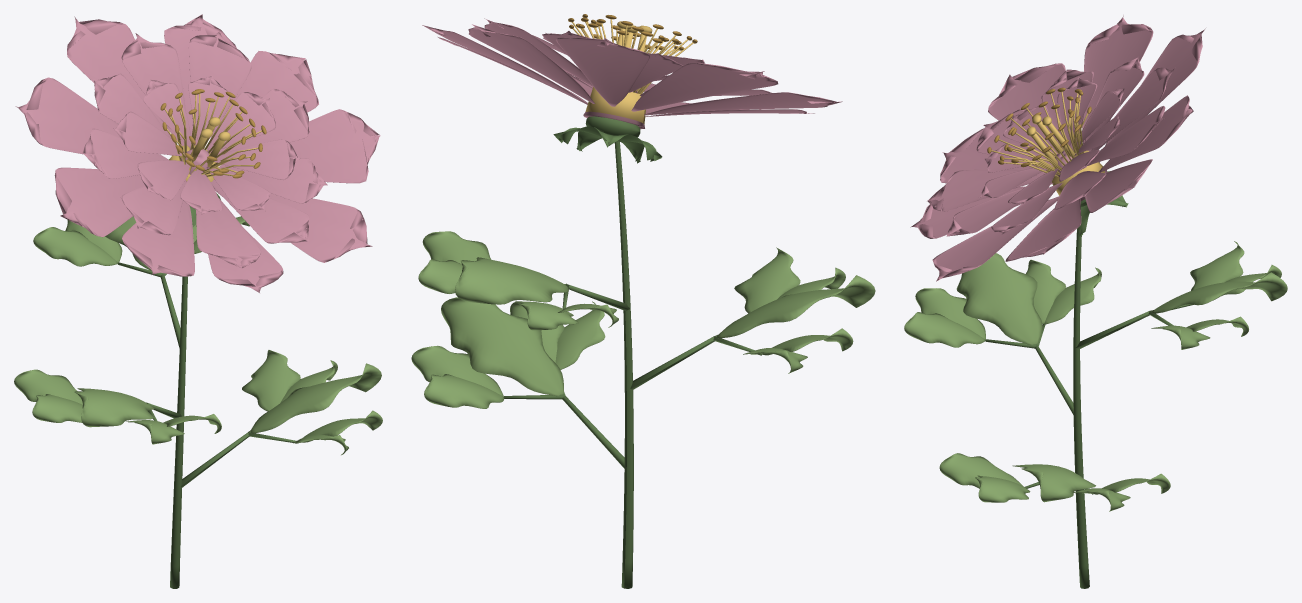
Rendered from peony-fine-v2.glb.
3 renders of one model, left to right at view 1: azimuth 30°, elevation 25°; view 2: azimuth 150°, elevation 25°; view 3: azimuth 270°, elevation 25°, orthographic. The views are drawn at different scales.
Parts seen in each view (by area): view 1: peony-fine-v2-petal, peony-fine-v2-leaf, peony-fine-v2-stem, peony-fine-v2-center, peony-fine-v2-pollen; view 2: peony-fine-v2-leaf, peony-fine-v2-petal, peony-fine-v2-stem, peony-fine-v2-center, peony-fine-v2-pollen; view 3: peony-fine-v2-petal, peony-fine-v2-leaf, peony-fine-v2-stem, peony-fine-v2-center, peony-fine-v2-pollen.
Boxes of the visible parts, <box> form: peony-fine-v2-petal: <box>15,14,380,292</box>; peony-fine-v2-leaf: <box>14,216,382,455</box>; peony-fine-v2-stem: <box>118,193,296,588</box>; peony-fine-v2-center: <box>164,93,261,181</box>; peony-fine-v2-pollen: <box>160,89,266,178</box>; peony-fine-v2-leaf: <box>411,231,875,408</box>; peony-fine-v2-petal: <box>422,18,842,129</box>; peony-fine-v2-stem: <box>504,116,761,588</box>; peony-fine-v2-center: <box>572,19,693,124</box>; peony-fine-v2-pollen: <box>568,14,697,50</box>; peony-fine-v2-petal: <box>910,15,1205,281</box>; peony-fine-v2-leaf: <box>904,241,1287,511</box>; peony-fine-v2-stem: <box>985,171,1193,588</box>; peony-fine-v2-center: <box>991,91,1104,195</box>; peony-fine-v2-pollen: <box>987,87,1091,167</box>.
Bounding box in the file's own units: 1.25 × 1.81 × 1.16.
